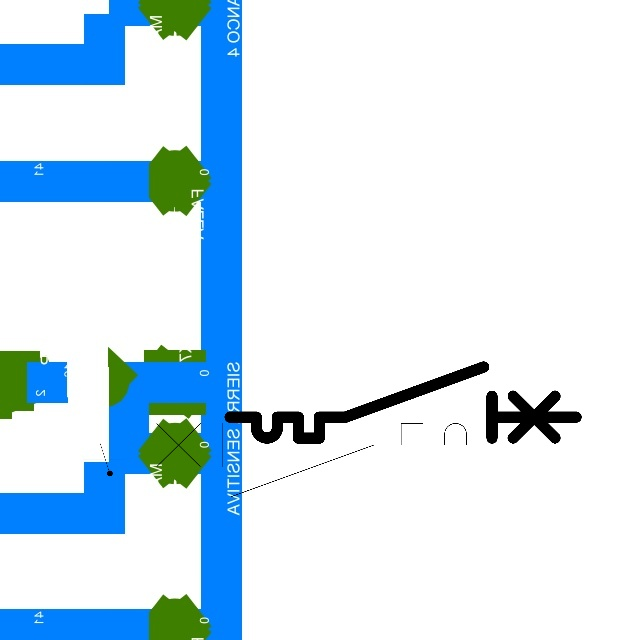interruptor_termomagnetico: (125, 414, 502, 506), (221, 358, 585, 447)
